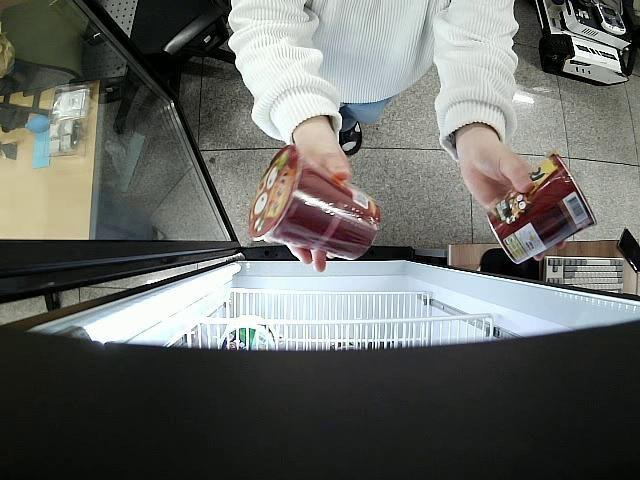06_nuguri_S: (250, 146, 380, 261), (485, 152, 598, 263)
